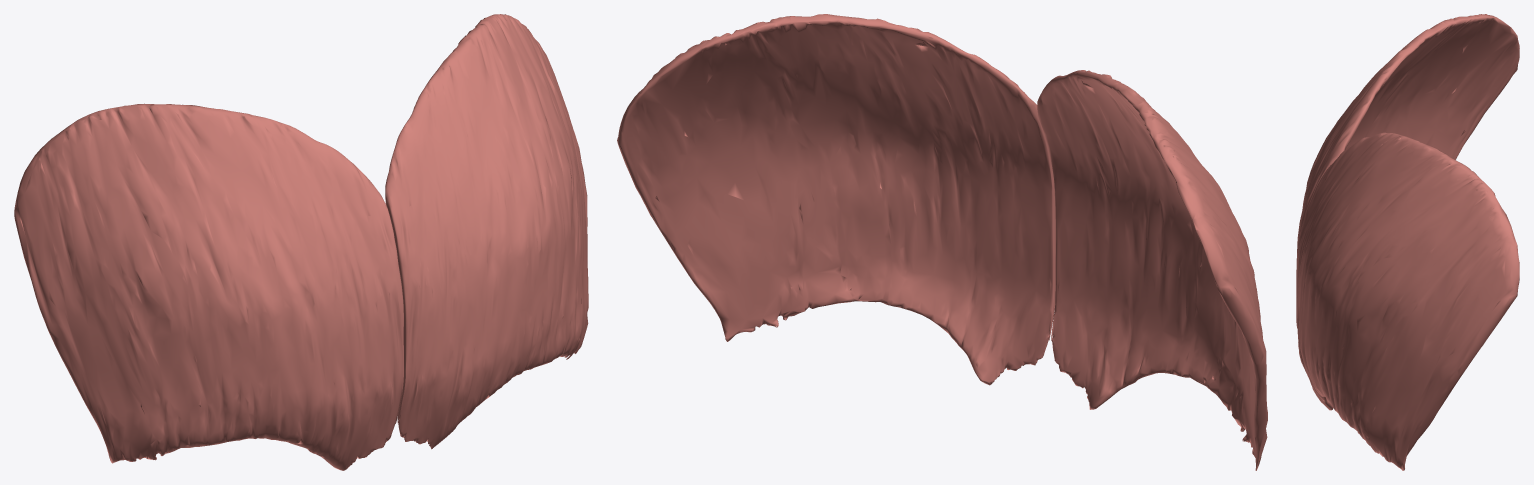
File: frontalis.glb
The picture shows the model from 3 angles, left to right: view 1: azimuth 30°, elevation 25°; view 2: azimuth 150°, elevation 25°; view 3: azimuth 270°, elevation 25°; orthographic projection. The views are drawn at different scales.
Parts seen in each view (by area): view 1: frontalis_R, frontalis_L; view 2: frontalis_L, frontalis_R; view 3: frontalis_L, frontalis_R.
Boxes of the visible parts, x1,y1,x2,y2 form: frontalis_R: (14, 103, 403, 470); frontalis_L: (385, 14, 588, 449); frontalis_L: (617, 14, 1055, 385); frontalis_R: (1037, 70, 1267, 470); frontalis_L: (1296, 132, 1519, 470); frontalis_R: (1296, 14, 1519, 296).
Size of the model in its own units: 0.12 by 0.0725 by 0.0485.
